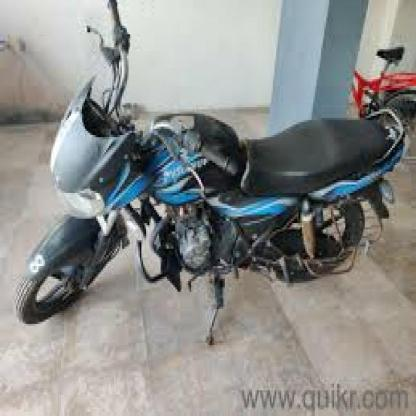bike: (18, 0, 408, 345)
